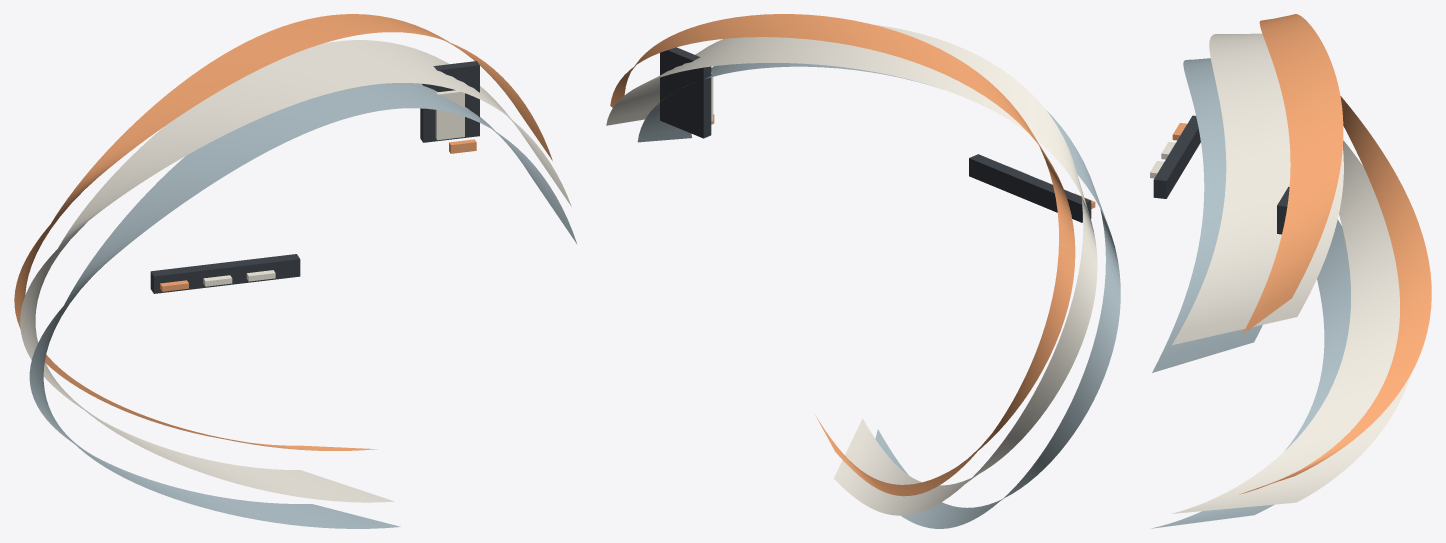
The model's file is webpage-sculpture.glb.
3 views of the same model, side by side, from view 1: azimuth 30°, elevation 25°; view 2: azimuth 150°, elevation 25°; view 3: azimuth 270°, elevation 25° (orthographic). The views are drawn at different scales.
Parts seen in each view (by area): view 1: 02_CONTENT__unfolding_page, 01_STRUCTURE__sculpted_website_frame, 03_INTERACTION__copper_motion_track, WEBSITE_UI__navigation_shell, WEBSITE_UI__hero_illustration, WEBSITE_UI__live_content; view 2: 02_CONTENT__unfolding_page, 03_INTERACTION__copper_motion_track, 01_STRUCTURE__sculpted_website_frame, WEBSITE_UI__hero_illustration, WEBSITE_UI__navigation_shell; view 3: 02_CONTENT__unfolding_page, 03_INTERACTION__copper_motion_track, 01_STRUCTURE__sculpted_website_frame, WEBSITE_UI__navigation_shell, WEBSITE_UI__hero_illustration.
Boxes of the visible parts, left/top/right/bottom form: 02_CONTENT__unfolding_page: left=20, top=40, right=571, bottom=502; 01_STRUCTURE__sculpted_website_frame: left=29, top=83, right=577, bottom=528; 03_INTERACTION__copper_motion_track: left=14, top=14, right=552, bottom=450; WEBSITE_UI__navigation_shell: left=150, top=254, right=300, bottom=293; WEBSITE_UI__hero_illustration: left=420, top=61, right=479, bottom=142; WEBSITE_UI__live_content: left=435, top=90, right=464, bottom=140; 02_CONTENT__unfolding_page: left=606, top=24, right=1097, bottom=515; 03_INTERACTION__copper_motion_track: left=610, top=14, right=1075, bottom=496; 01_STRUCTURE__sculpted_website_frame: left=637, top=63, right=1120, bottom=528; WEBSITE_UI__hero_illustration: left=660, top=47, right=711, bottom=138; WEBSITE_UI__navigation_shell: left=969, top=154, right=1091, bottom=222; 02_CONTENT__unfolding_page: left=1171, top=33, right=1410, bottom=513; 03_INTERACTION__copper_motion_track: left=1240, top=14, right=1431, bottom=494; 01_STRUCTURE__sculpted_website_frame: left=1151, top=58, right=1350, bottom=528; WEBSITE_UI__navigation_shell: left=1153, top=115, right=1200, bottom=198; WEBSITE_UI__hero_illustration: left=1277, top=186, right=1289, bottom=234.
Bounding box in the file's own units: 5.27 × 4.66 × 2.56.
